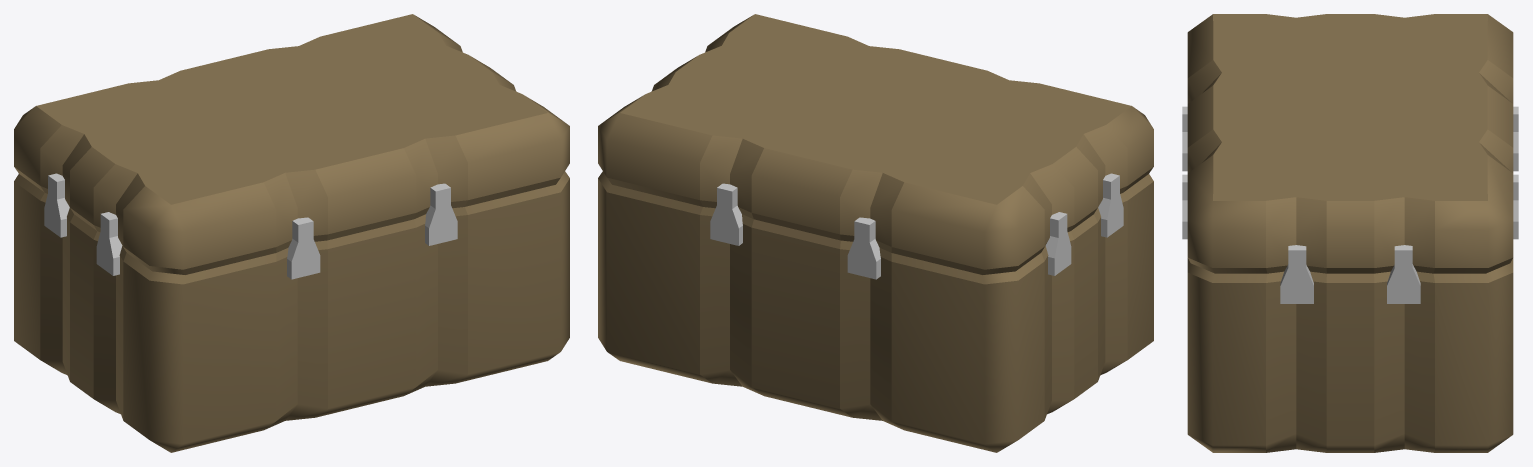
3 renders of one model, left to right at view 1: azimuth 30°, elevation 25°; view 2: azimuth 150°, elevation 25°; view 3: azimuth 270°, elevation 25°, orthographic.
Visible parts, largest first — view 1: box_004; view 2: box_004; view 3: box_004.
Boxes of the visible parts, x1,y1,x2,y2 form: box_004: (14,14,569,452); box_004: (598,14,1153,452); box_004: (1182,14,1518,452).
Bounding box in the file's own units: 141 × 94.75 × 78.44.
